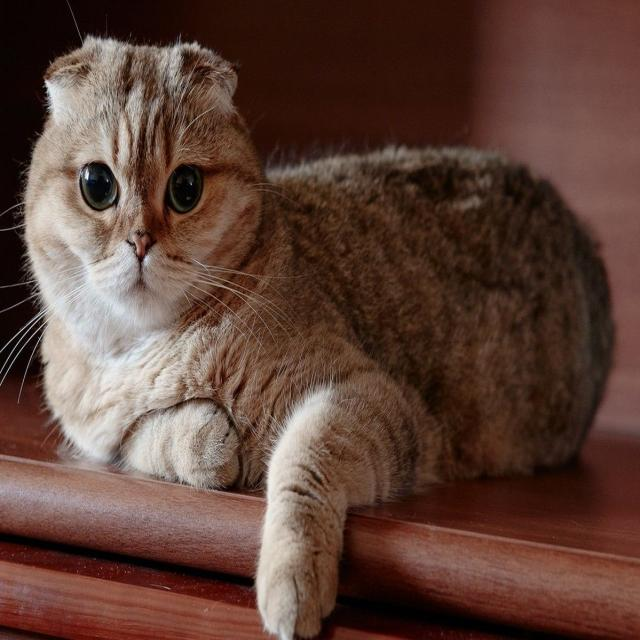Scottish Fold: (19, 27, 619, 640)
